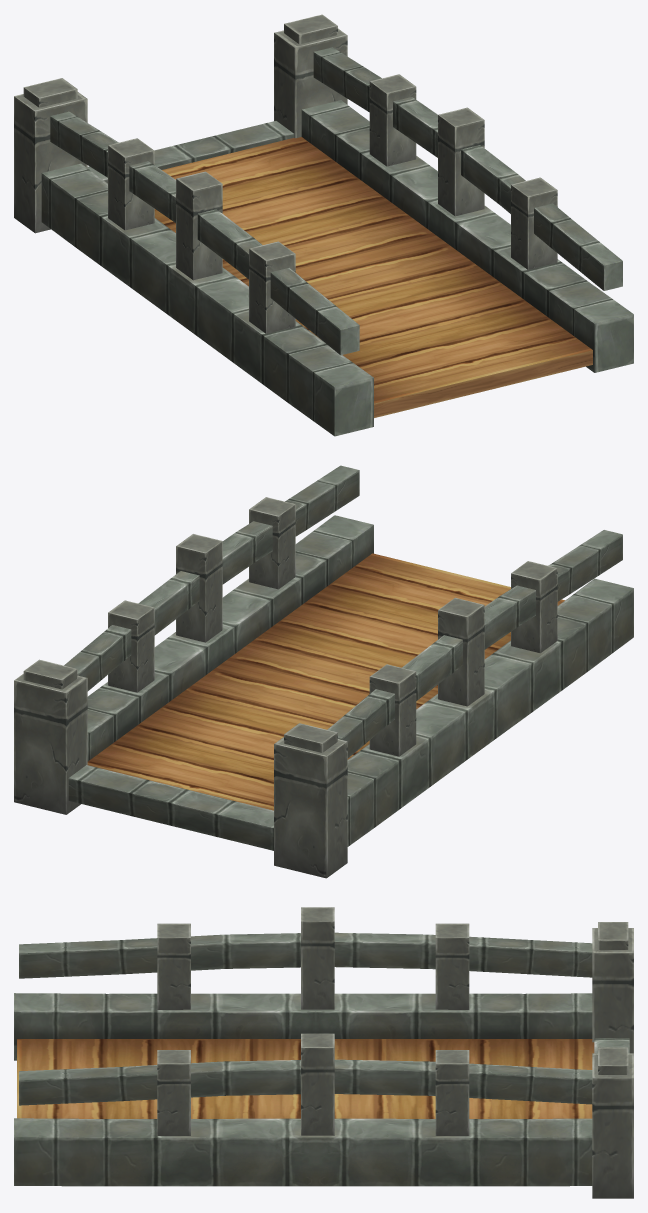
File: bridge_03b_tile_08.fbx
3 renders of one model, top to bottom at view 1: azimuth 30°, elevation 25°; view 2: azimuth 150°, elevation 25°; view 3: azimuth 270°, elevation 25°, orthographic.
Parts seen in each view (by area): view 1: bridge_03b_tile_08; view 2: bridge_03b_tile_08; view 3: bridge_03b_tile_08.
Boxes of the visible parts, x1,y1,x2,y2 form: bridge_03b_tile_08: [14, 14, 633, 436]; bridge_03b_tile_08: [14, 465, 633, 878]; bridge_03b_tile_08: [14, 907, 633, 1198].
Bounding box in the file's own units: 2.47 × 1.12 × 4.3.
